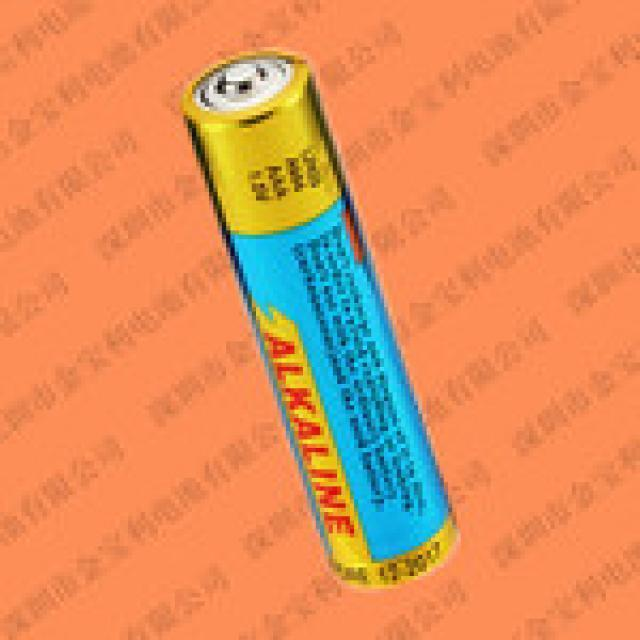Hazard: (178, 44, 464, 590)
